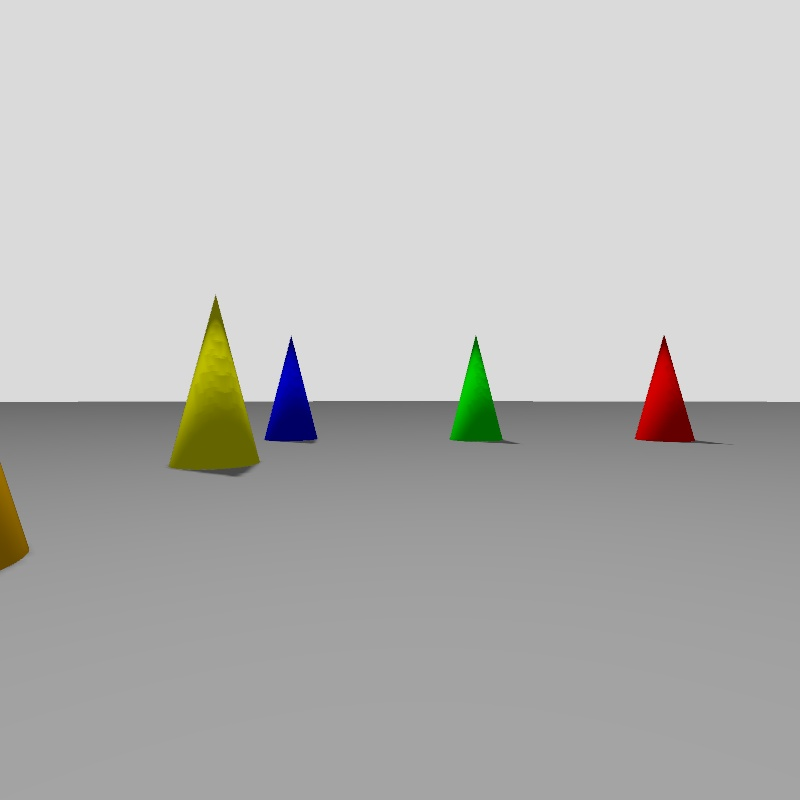Blue_cone: (265, 338, 317, 441)
Green_cone: (451, 336, 502, 440)
Orange_cone: (0, 464, 28, 569)
Red_cone: (635, 337, 694, 440)
Yellow_cone: (170, 296, 259, 469)
